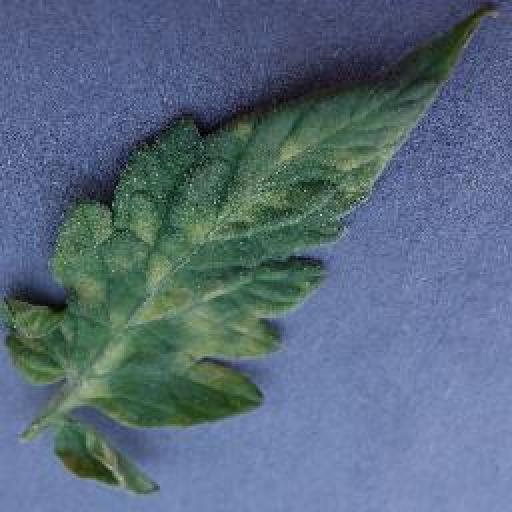disease_tomato: (0, 2, 498, 432)
